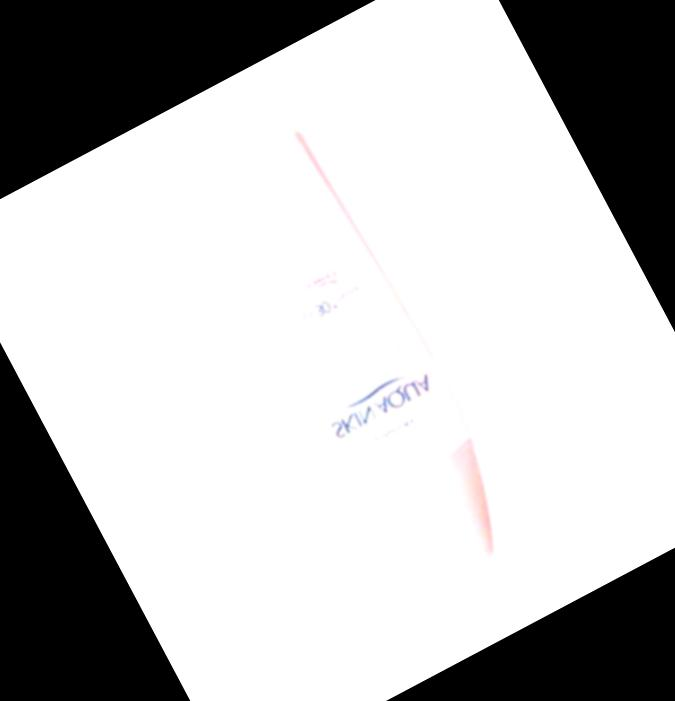cosmetic: (181, 112, 533, 608)
